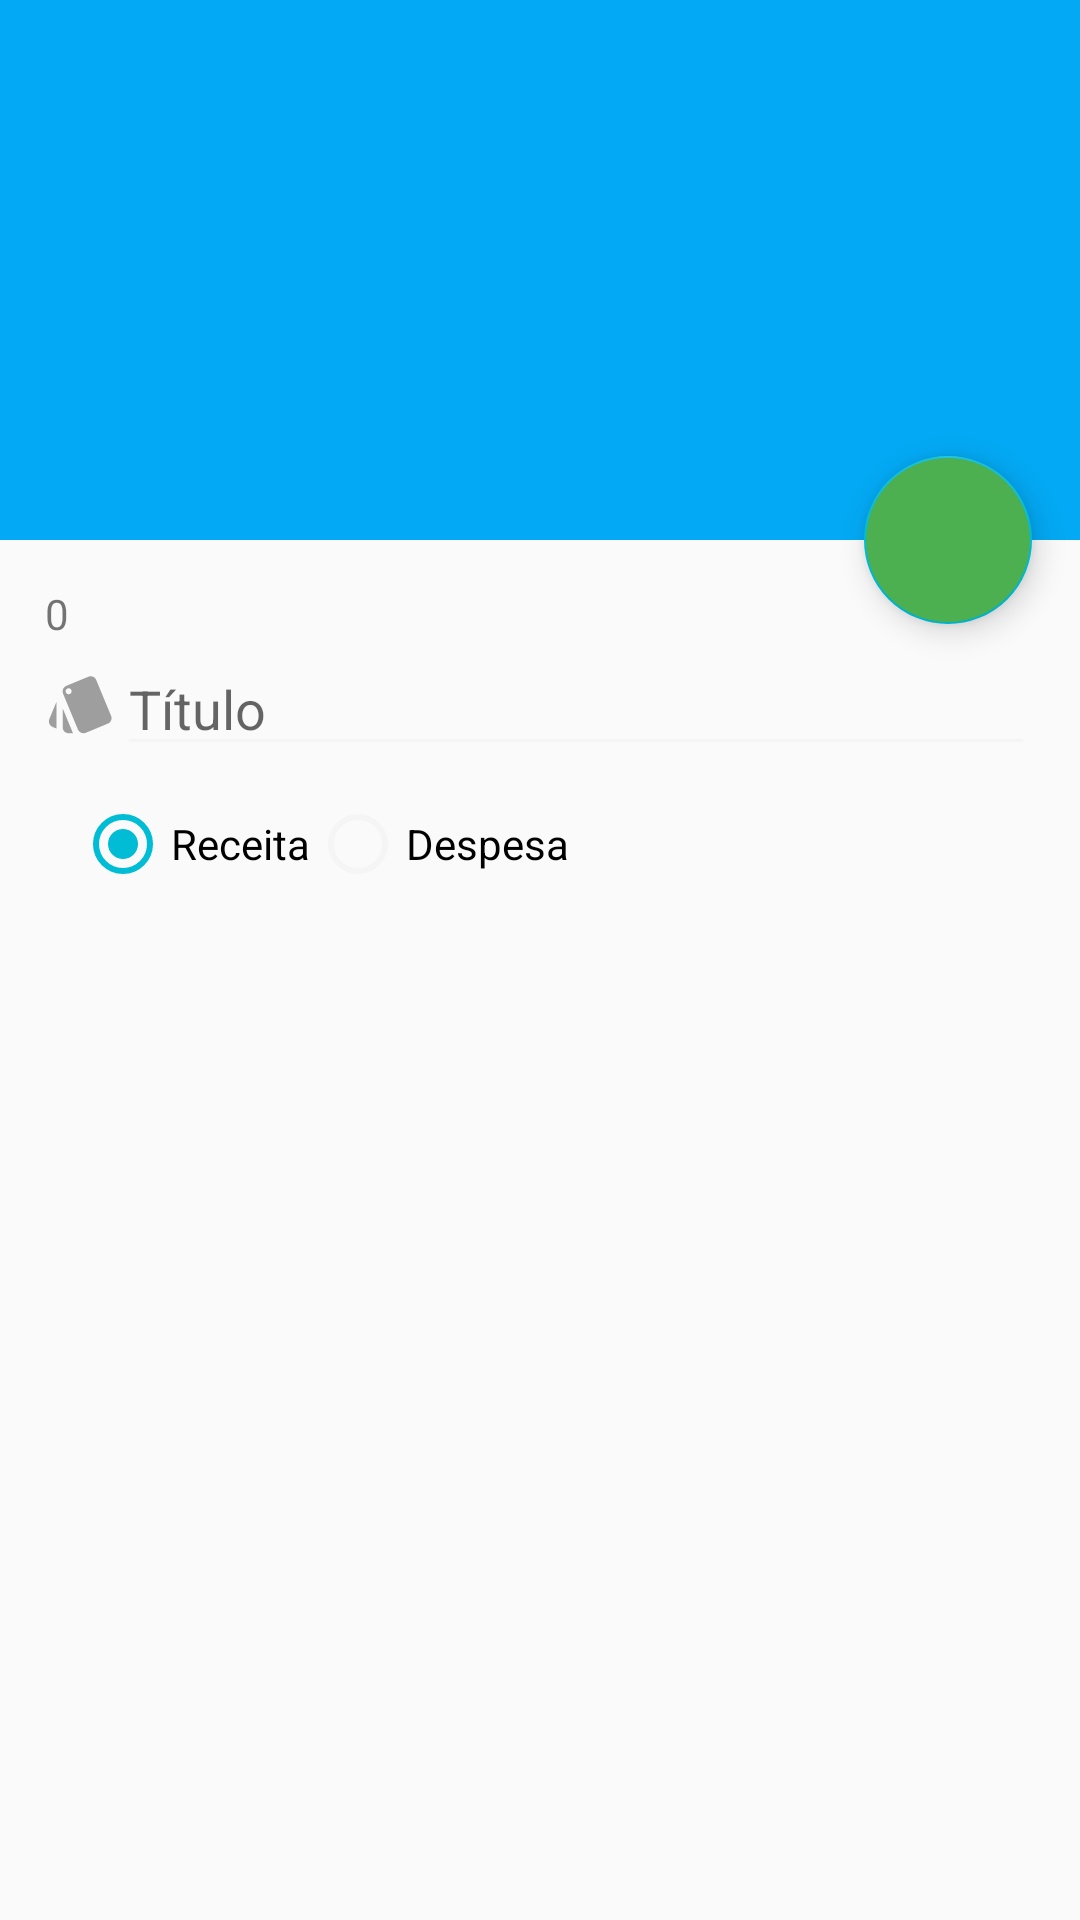

Icon bounding boxes for this 1080x1920 phone screenshot, format (x1, y1, x2, y2):
categorias: (49, 676, 112, 733)
